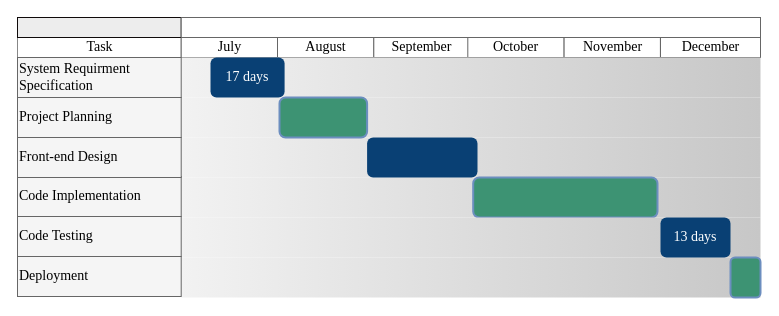
This 779x316 diagram has some shape labels left out. The shapes that lost their labels are listed below. From the top down, each one's centre as x and y in pixels, then its label:
point 470,27: 16th July 2nd - 28th Aug 29th Aug - 5th Oct 6th Oct - 30th Nov 1st - 13th Dec
point 323,117: 27 days
point 422,157: 38 days
point 565,197: 56 days
point 745,277: 2 days
